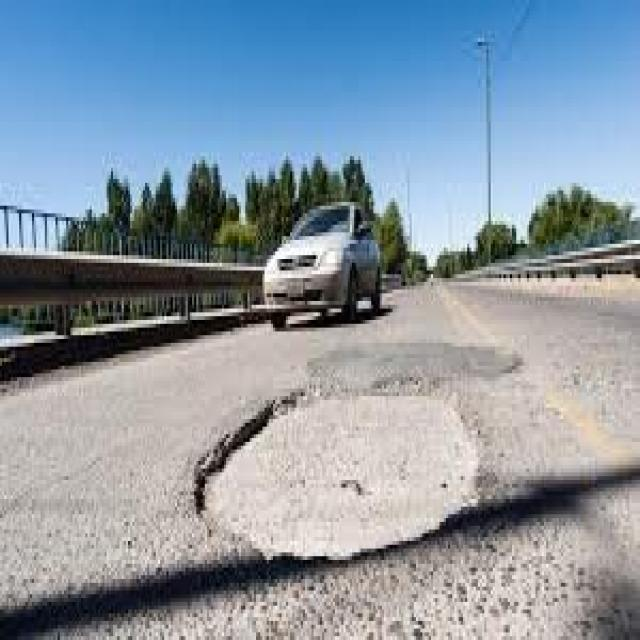Pothole: (188, 358, 525, 610)
